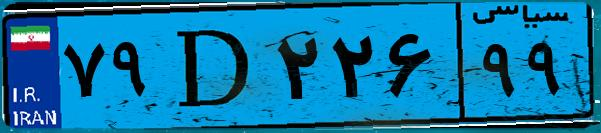2: (270, 28, 330, 110), (330, 28, 385, 110)
6: (385, 28, 445, 110)
7: (57, 26, 110, 100)
9: (475, 38, 525, 113), (525, 38, 570, 115), (110, 28, 158, 98)
D: (158, 12, 270, 120)
